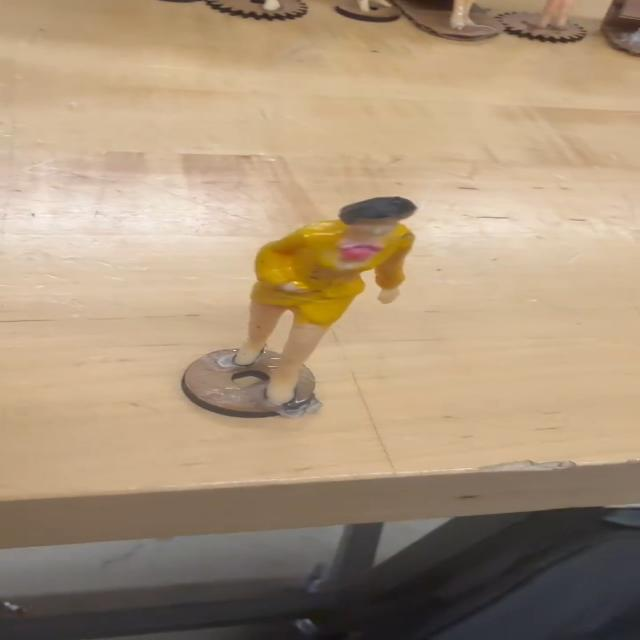Authorized: (243, 182, 417, 414)
